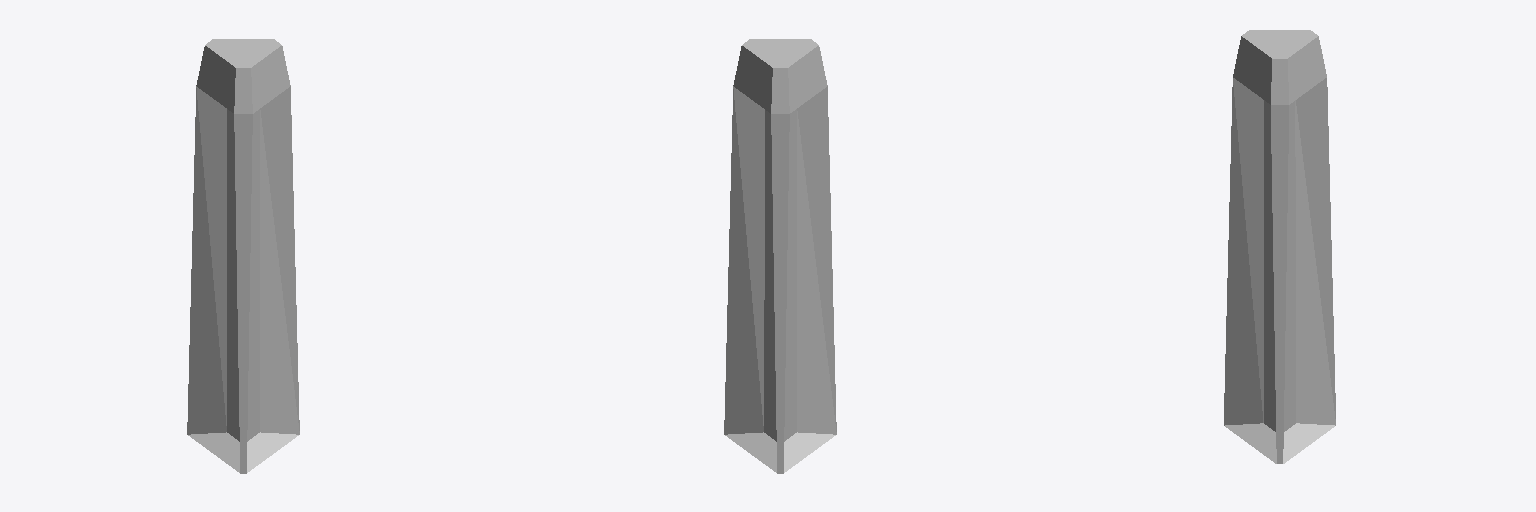
File: PlafondNeon003.obj
3 views of the same model, side by side, from view 1: azimuth 30°, elevation 25°; view 2: azimuth 150°, elevation 25°; view 3: azimuth 270°, elevation 25° (orthographic).
Visible parts, largest first — view 1: PlafondNeon003_Circle; view 2: PlafondNeon003_Circle; view 3: PlafondNeon003_Circle.
Part boxes in pixels (x1,y1,x2,y2): PlafondNeon003_Circle: (187, 39, 299, 473); PlafondNeon003_Circle: (724, 39, 836, 473); PlafondNeon003_Circle: (1224, 30, 1335, 463).
Size of the model in its own units: 0.6202 by 2.92 by 0.7161.